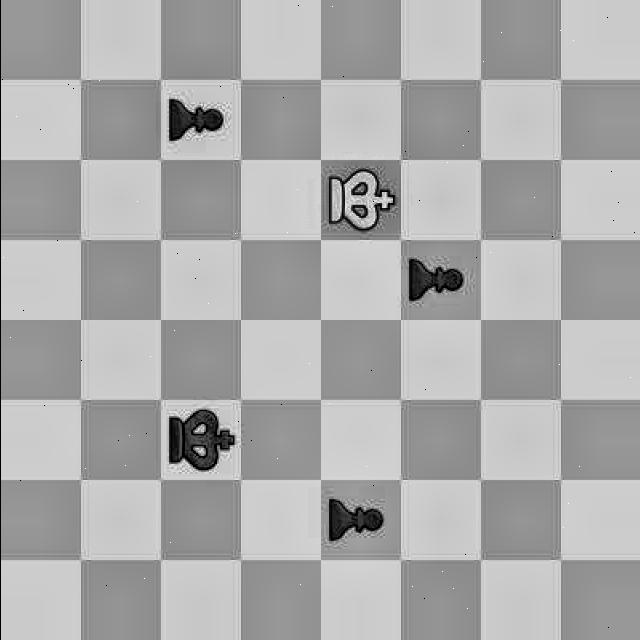black king: (158, 402, 244, 482)
black pawn: (159, 80, 245, 157), (401, 243, 483, 320), (322, 482, 396, 556)
white king: (321, 158, 396, 240)
